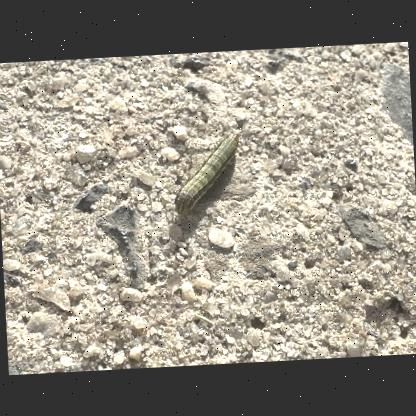Fall Armyworm Larvae: (168, 131, 244, 217)
